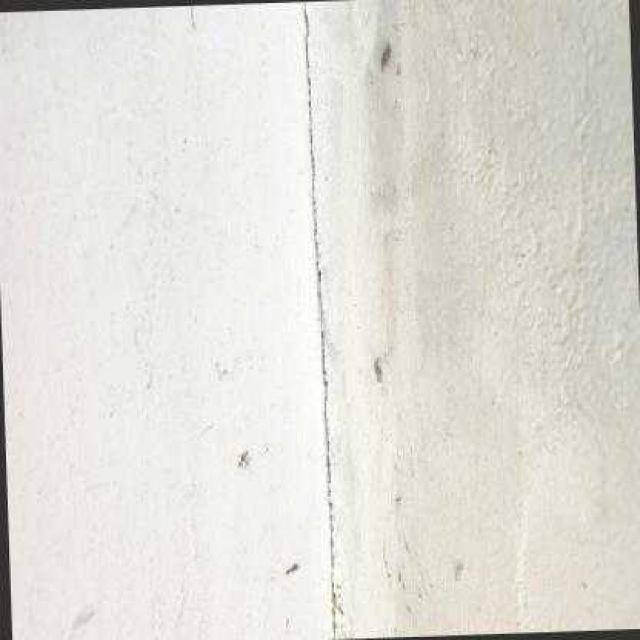D00: (303, 0, 334, 640)
